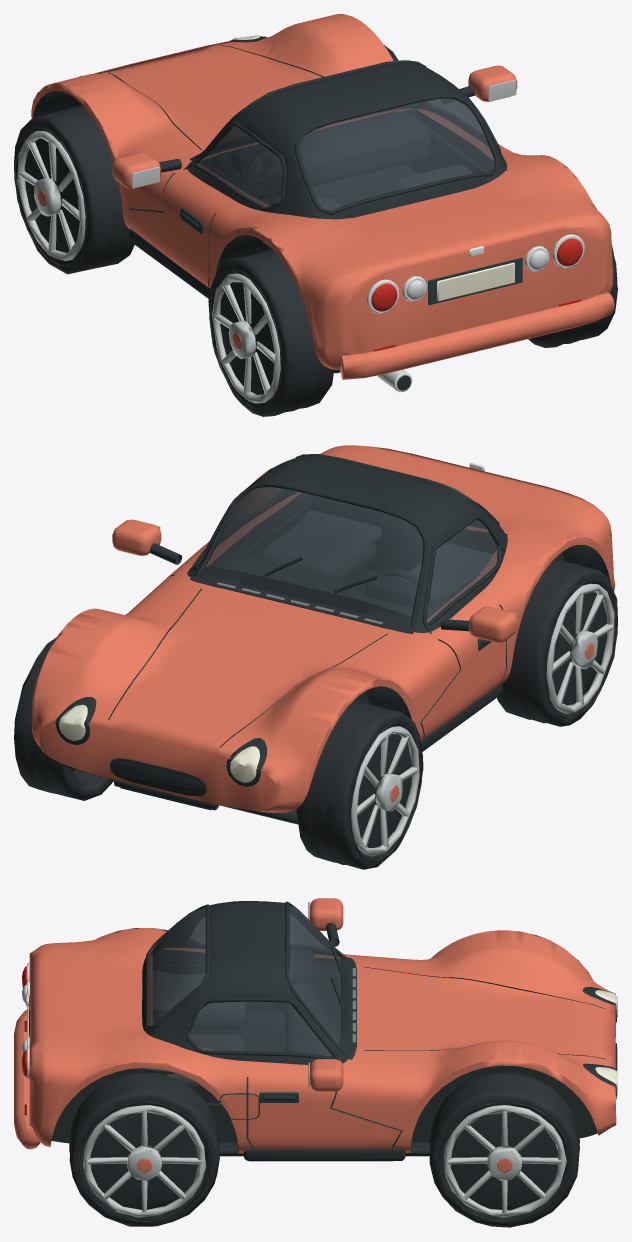
The model's file is chibi_lod2.fbx.
3 views of the same model, one above another, from view 1: azimuth 30°, elevation 25°; view 2: azimuth 150°, elevation 25°; view 3: azimuth 270°, elevation 25° (orthographic). The views are drawn at different scales.
Visible parts, largest first — view 1: Body, Wheel_FL_Mesh, Wheel_RL_Mesh, Wheel_RR_Mesh; view 2: Body, Wheel_FL_Mesh, Wheel_RL_Mesh, Wheel_FR_Mesh; view 3: Body, Wheel_FR_Mesh, Wheel_RR_Mesh.
Boxes of the visible parts, <box> form: Body: <box>31,14,614,392</box>; Wheel_FL_Mesh: <box>14,105,134,274</box>; Wheel_RL_Mesh: <box>208,249,333,416</box>; Wheel_RR_Mesh: <box>528,204,617,347</box>; Body: <box>31,445,615,824</box>; Wheel_FL_Mesh: <box>296,700,423,869</box>; Wheel_RL_Mesh: <box>497,559,617,726</box>; Wheel_FR_Mesh: <box>14,637,114,800</box>; Body: <box>14,898,617,1161</box>; Wheel_FR_Mesh: <box>429,1072,579,1227</box>; Wheel_RR_Mesh: <box>69,1073,219,1226</box>.
Size of the model in its own units: 212 by 125 by 305.
